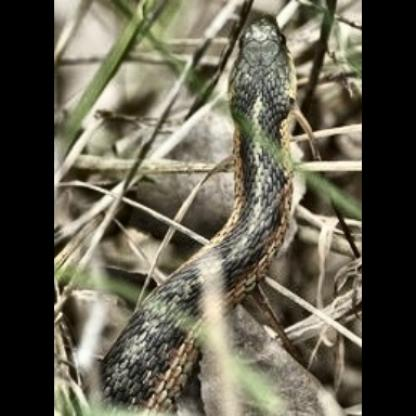Snake: (99, 11, 305, 399)
